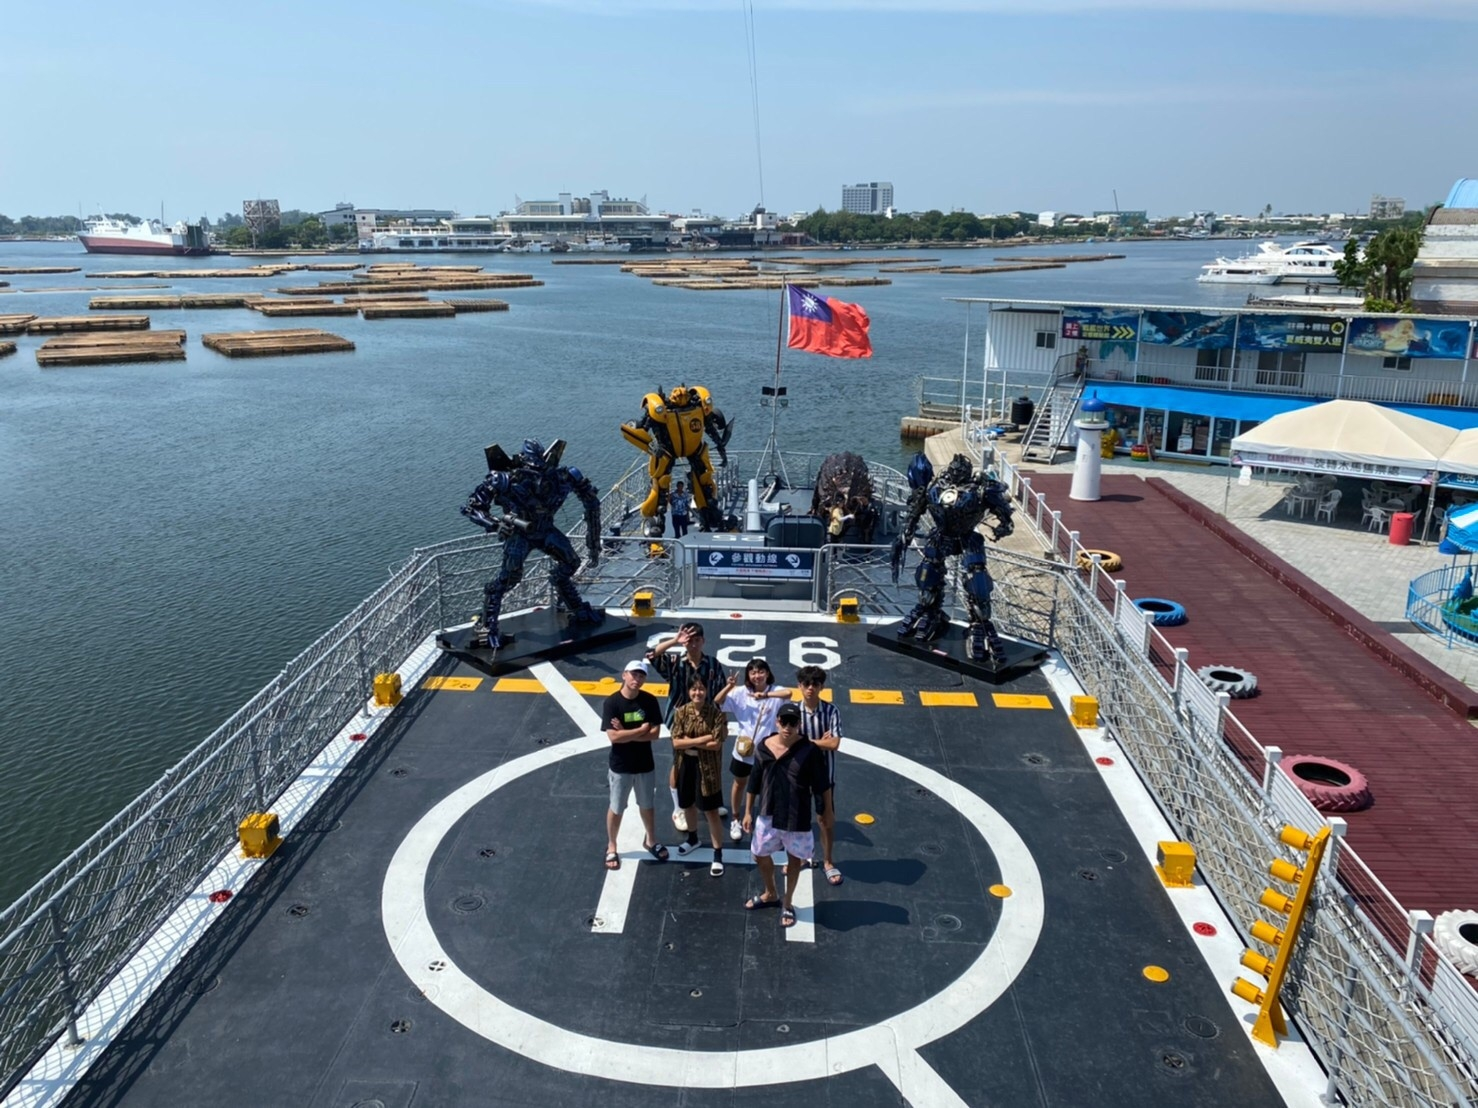people: (794, 661, 858, 890), (602, 657, 665, 869), (675, 682, 729, 882), (761, 707, 808, 932), (671, 623, 727, 715), (740, 661, 771, 825)
